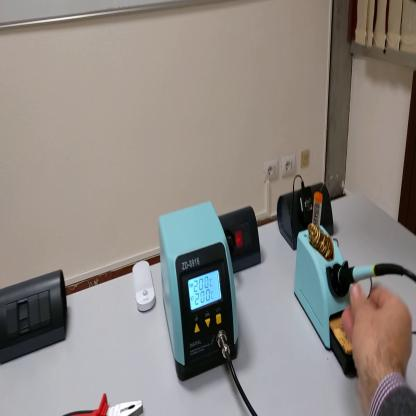hand: (344, 283, 412, 396)
pliers: (65, 388, 145, 415)
socket: (276, 180, 335, 250), (220, 204, 266, 274)
welder base: (294, 189, 359, 383)
welder probe tip: (337, 261, 404, 289)
welder station: (158, 195, 242, 386)
